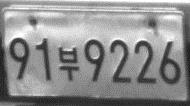1: (34, 37, 52, 82)
2: (132, 39, 157, 84), (109, 38, 132, 83)
6: (159, 40, 181, 85)
9: (8, 37, 30, 81), (83, 38, 105, 82)
부: (57, 45, 79, 83)
